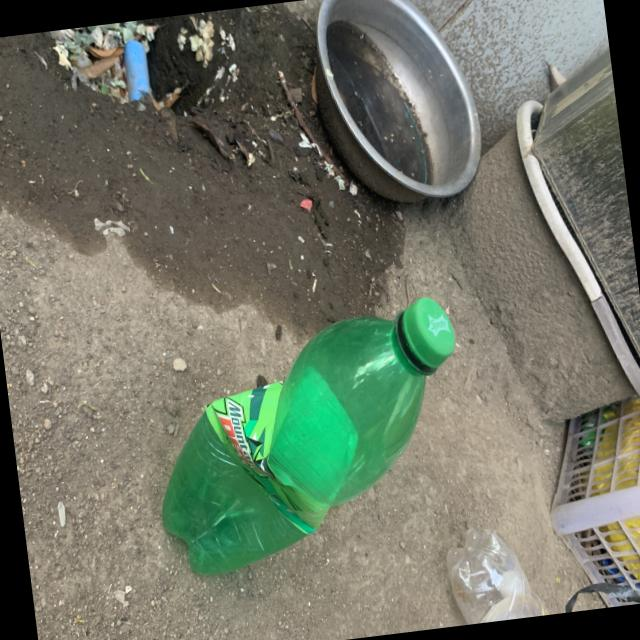Bottle: (161, 297, 454, 574)
